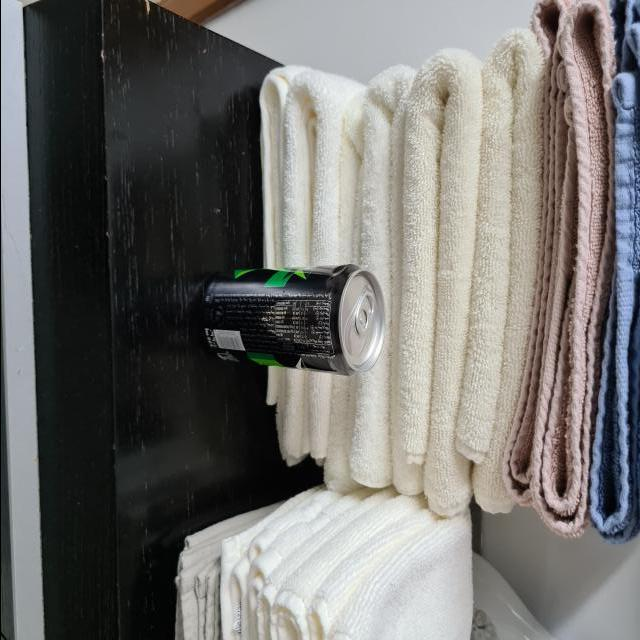can: (198, 264, 386, 376)
